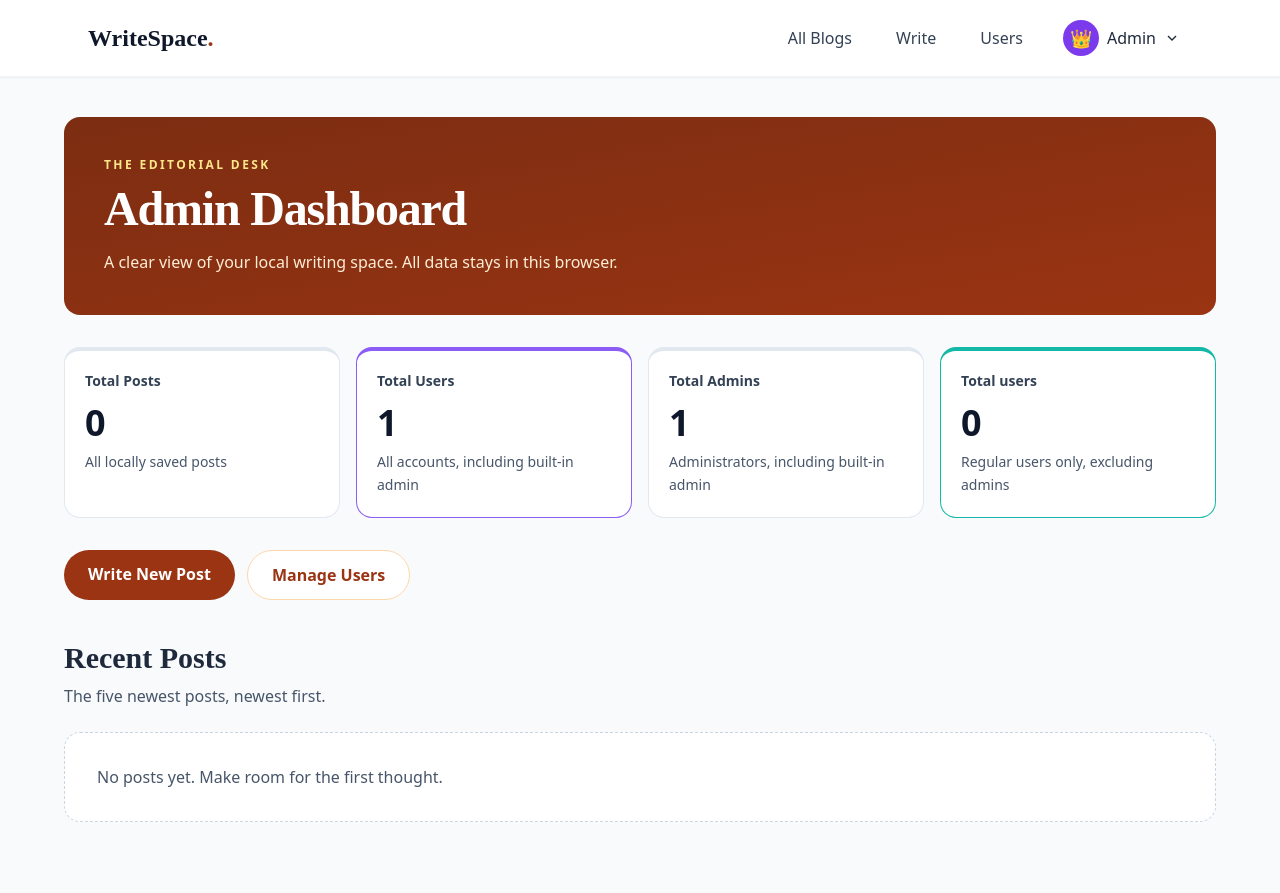
Test: creates admin via dashboard quick action and preserves previous routes
Click the link "Manage Users".
click(329, 574)  # box [247, 550, 410, 600]
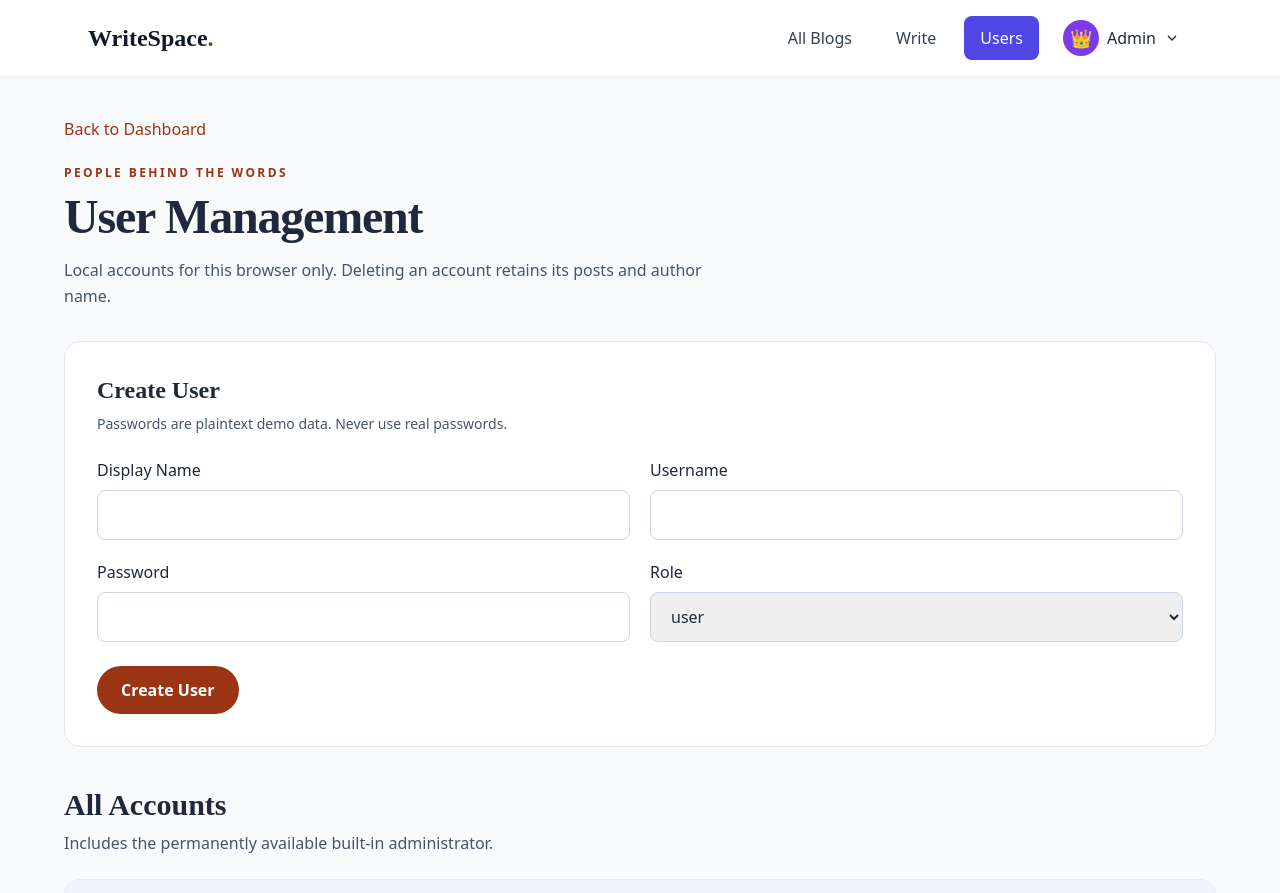
Type "Reader" into the field labelled "Display Name".
click(364, 515); type("Reader")  # box [97, 490, 630, 540]
Type "reader" into the field labelled "Username".
click(916, 515); type("reader")  # box [650, 490, 1183, 540]
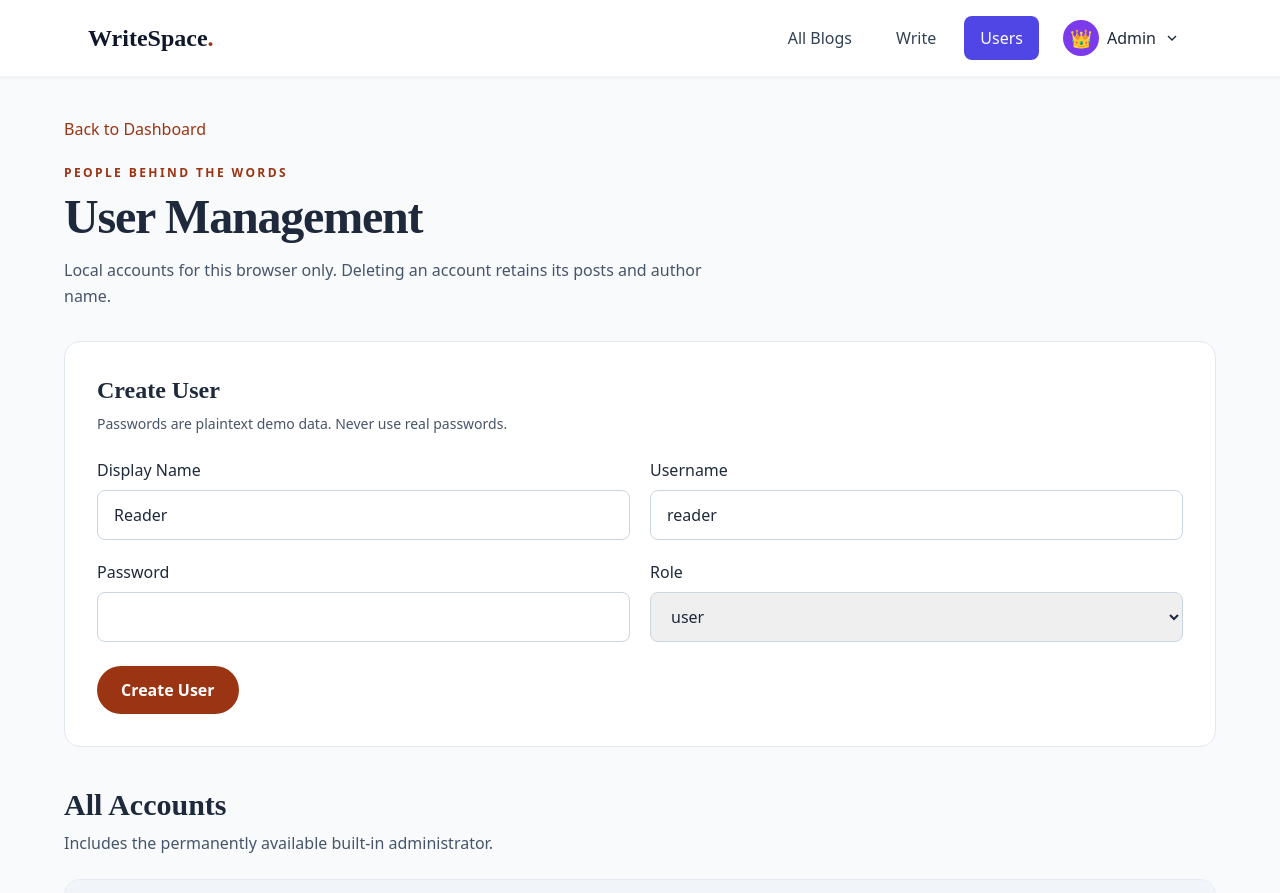
Type "demo" into the password field labelled "Password".
click(364, 617); type("demo")  # box [97, 592, 630, 642]
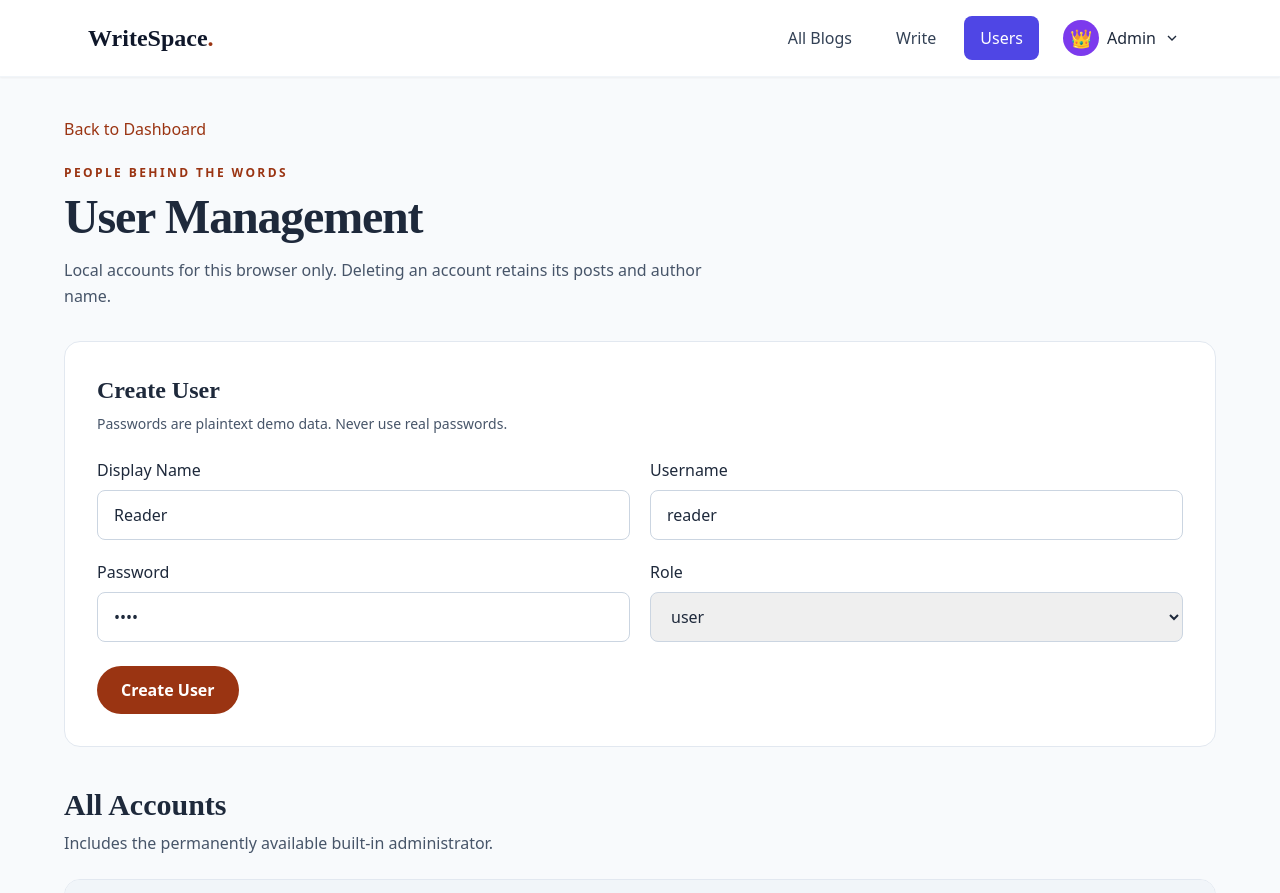
Select "Admin" in the dropdown labelled "Role" at x=916, y=617, box [650, 592, 1183, 642]
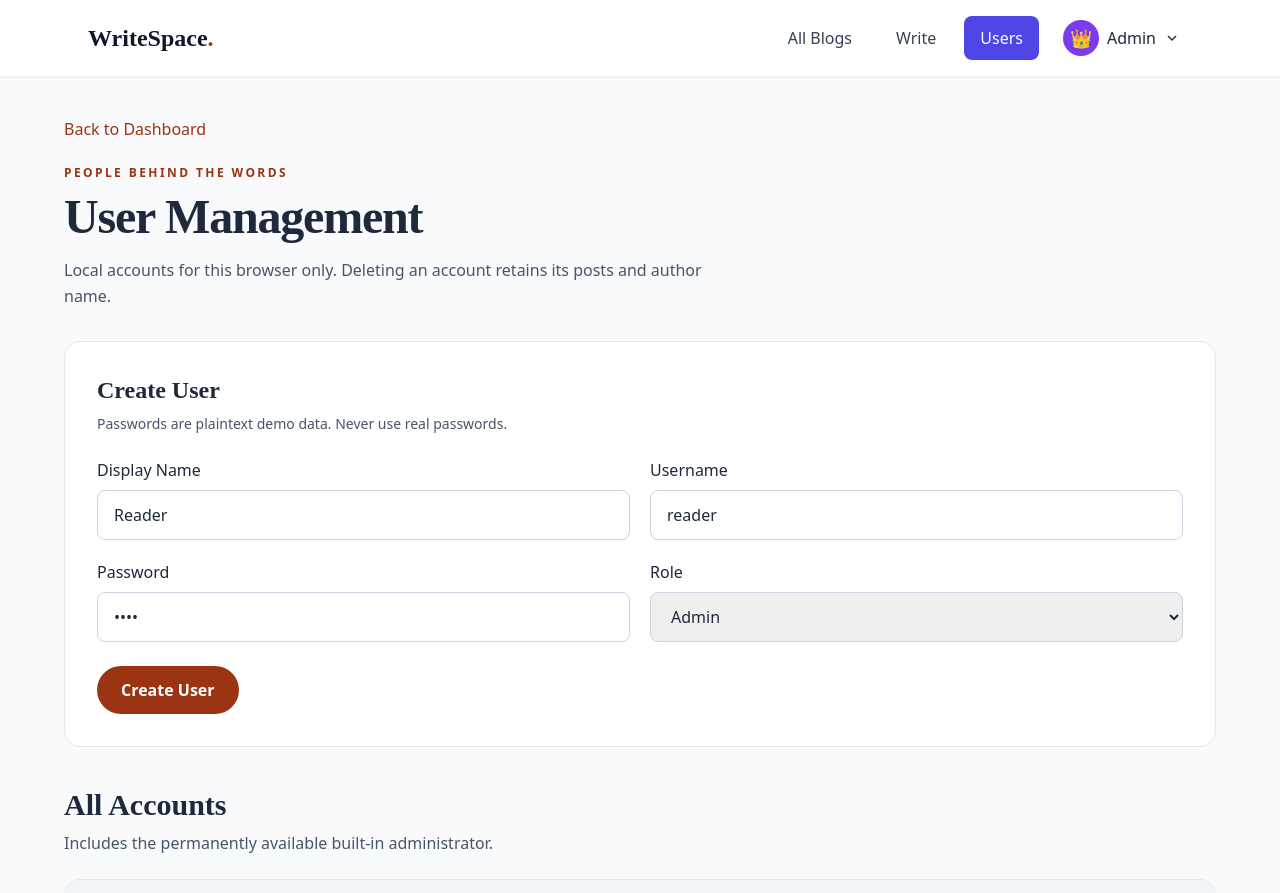
Click the button "Create User".
click(168, 690)  # box [97, 666, 239, 714]
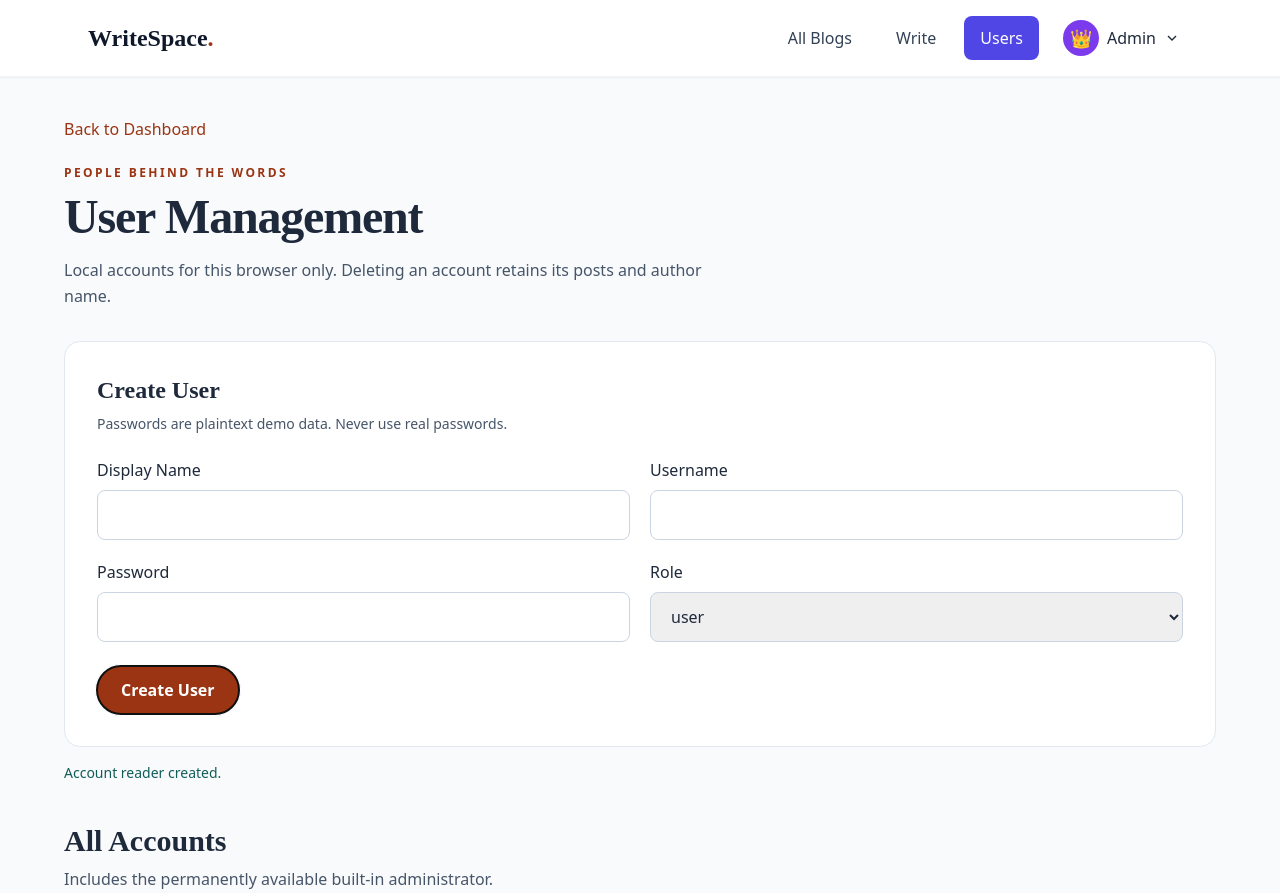
Expected: the message reads "Account reader created.", [64, 763, 221, 782]
Expected: the password field labelled "Password" is empty, [97, 592, 630, 642]
Click the link "Back to Dashboard".
click(135, 129)  # box [64, 118, 206, 140]
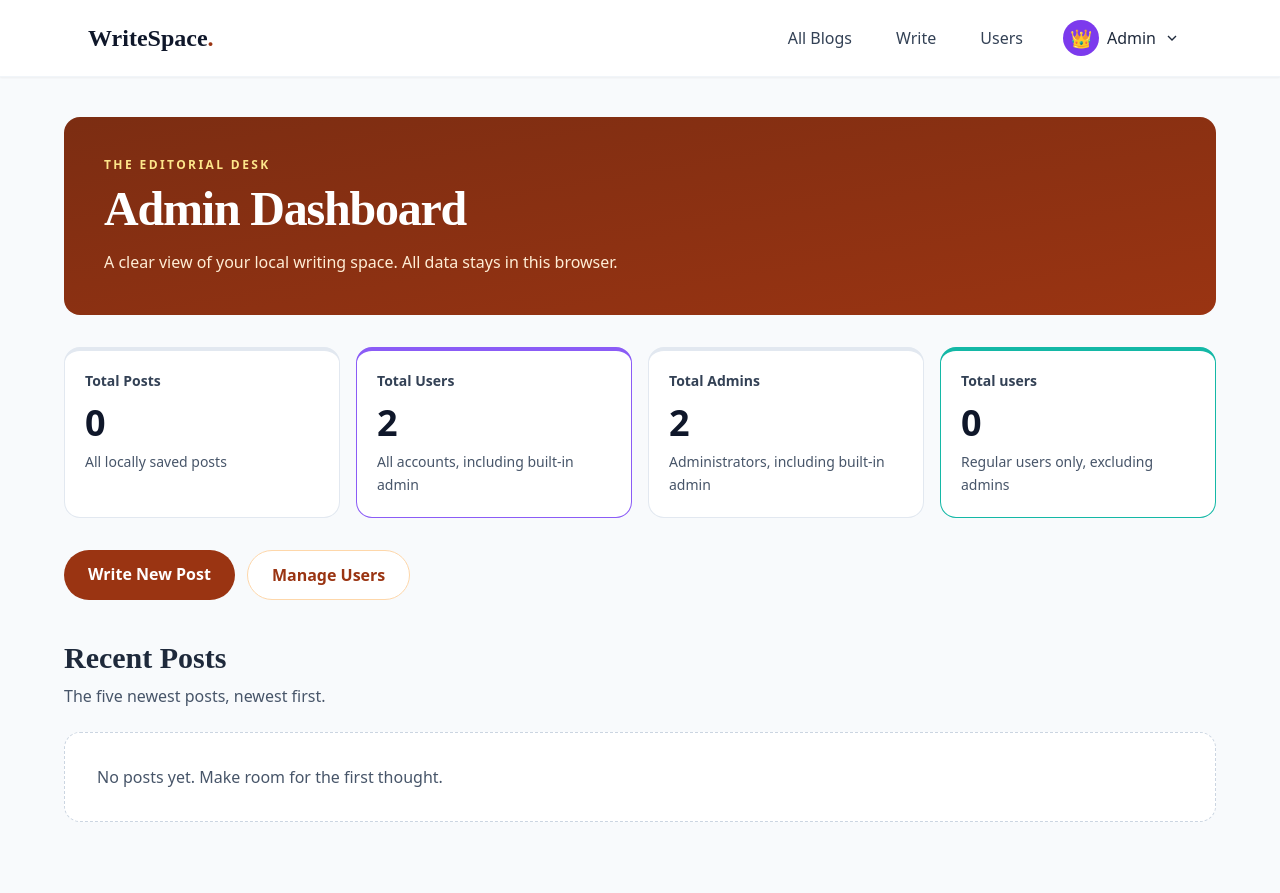
Expected: the element "Total Users" shows "2", [377, 398, 398, 447]
